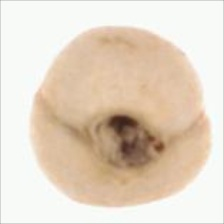L3: (80, 111, 167, 172)
L4: (29, 26, 211, 207)
